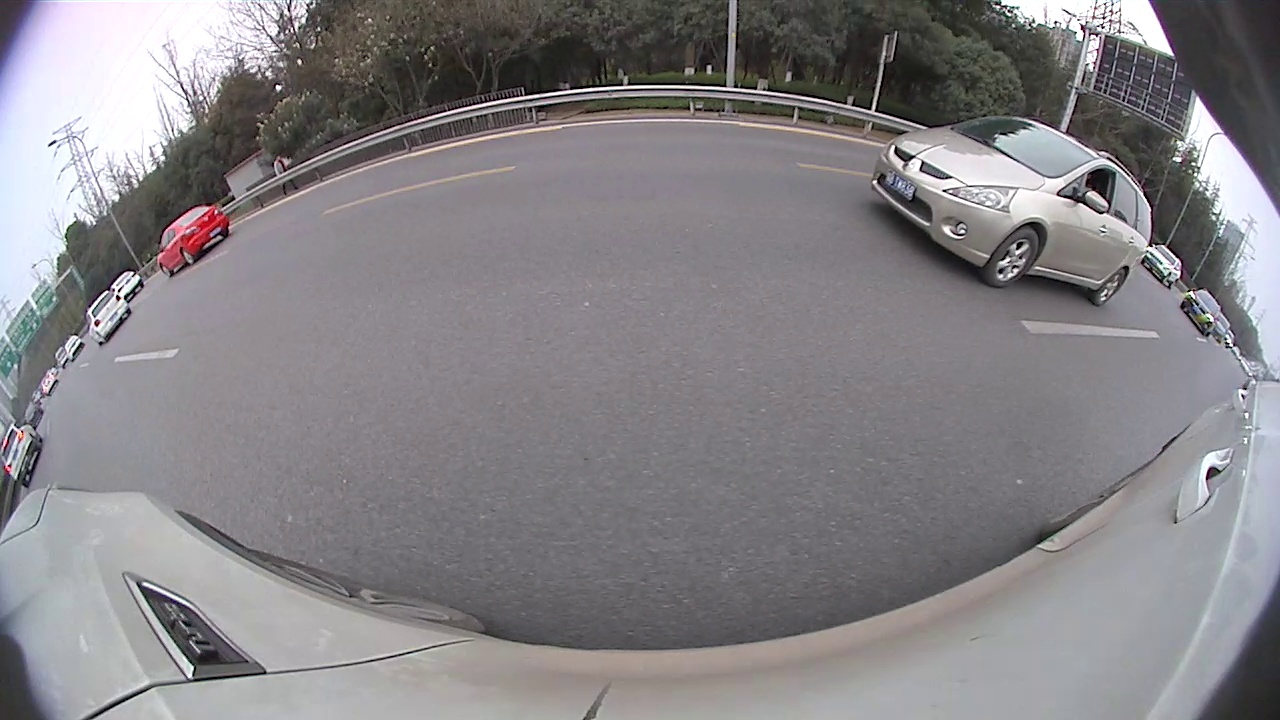car: (870, 113, 1154, 308), (155, 202, 232, 278), (1, 418, 44, 489), (83, 287, 132, 347), (1179, 285, 1224, 339), (1142, 243, 1183, 290), (108, 267, 145, 303), (63, 333, 85, 363)
front: (988, 230, 1039, 289), (161, 264, 171, 278)
rear: (1096, 269, 1126, 306), (182, 249, 195, 265)
